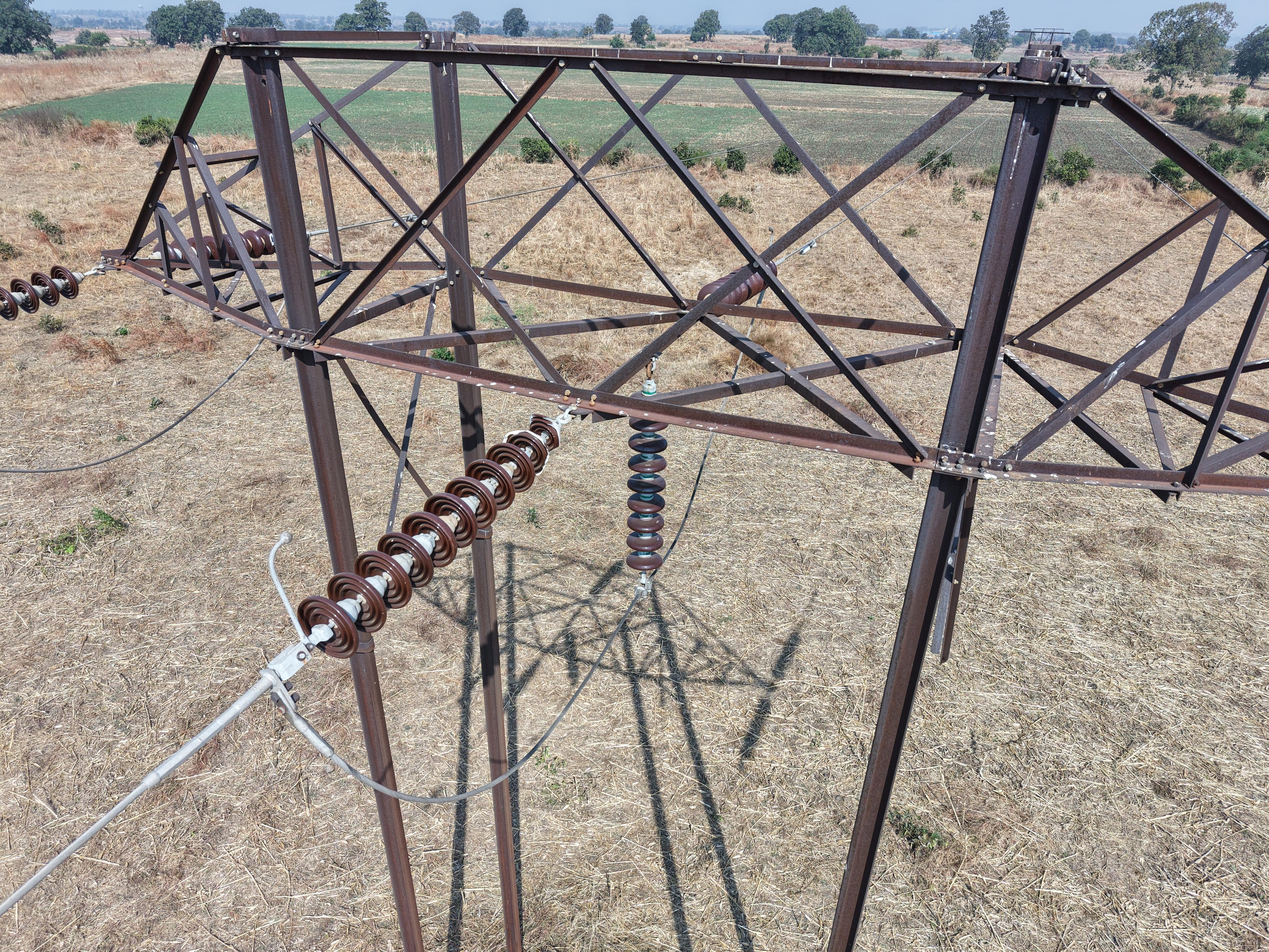broken_insulator: (501, 429, 551, 477), (526, 410, 566, 451), (256, 228, 277, 255)
